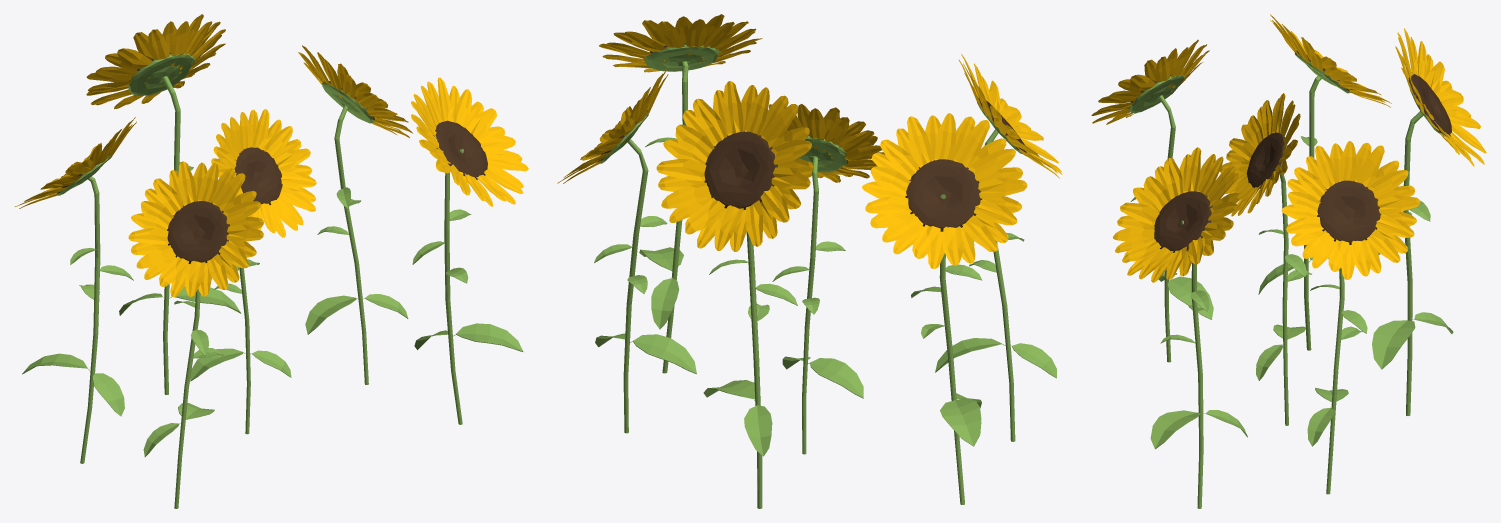
File: fiori2.fbx
The picture shows the model from 3 angles, left to right: view 1: azimuth 30°, elevation 25°; view 2: azimuth 150°, elevation 25°; view 3: azimuth 270°, elevation 25°; orthographic projection. The views are drawn at different scales.
Parts seen in each view (by area): view 1: sunflower; view 2: sunflower; view 3: sunflower.
Part boxes in pixels (x1,y1,x2,y2): sunflower: (14,14,528,508); sunflower: (557,14,1062,508); sunflower: (1091,14,1486,508).
Bounding box in the file's own units: 41.71 × 34.76 × 32.99.
